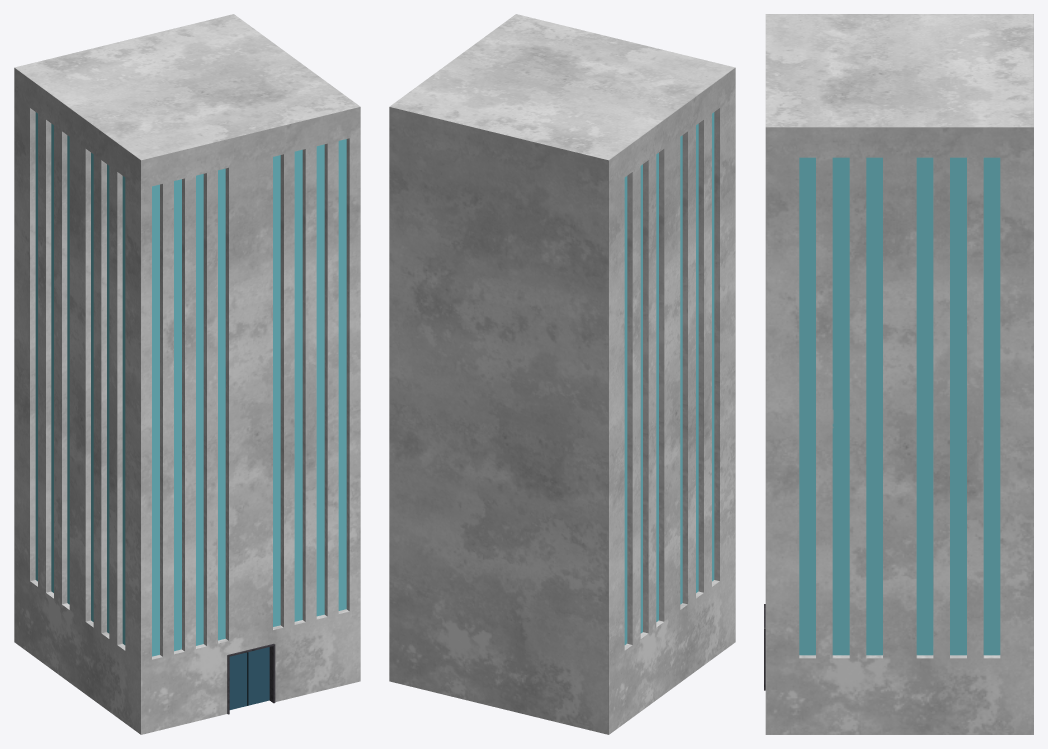
Rendered from Building_02_Texture.fbx.
The picture shows the model from 3 angles, left to right: view 1: azimuth 30°, elevation 25°; view 2: azimuth 150°, elevation 25°; view 3: azimuth 270°, elevation 25°; orthographic projection. The views are drawn at different scales.
Parts seen in each view (by area): view 1: Buil_02; view 2: Buil_02; view 3: Buil_02.
Part boxes in pixels (box(x1,y1,x2,y2)): Buil_02: box(14, 14, 360, 734); Buil_02: box(389, 14, 735, 734); Buil_02: box(764, 14, 1033, 734).
Size of the model in its own units: 1440 by 3600 by 1449.
